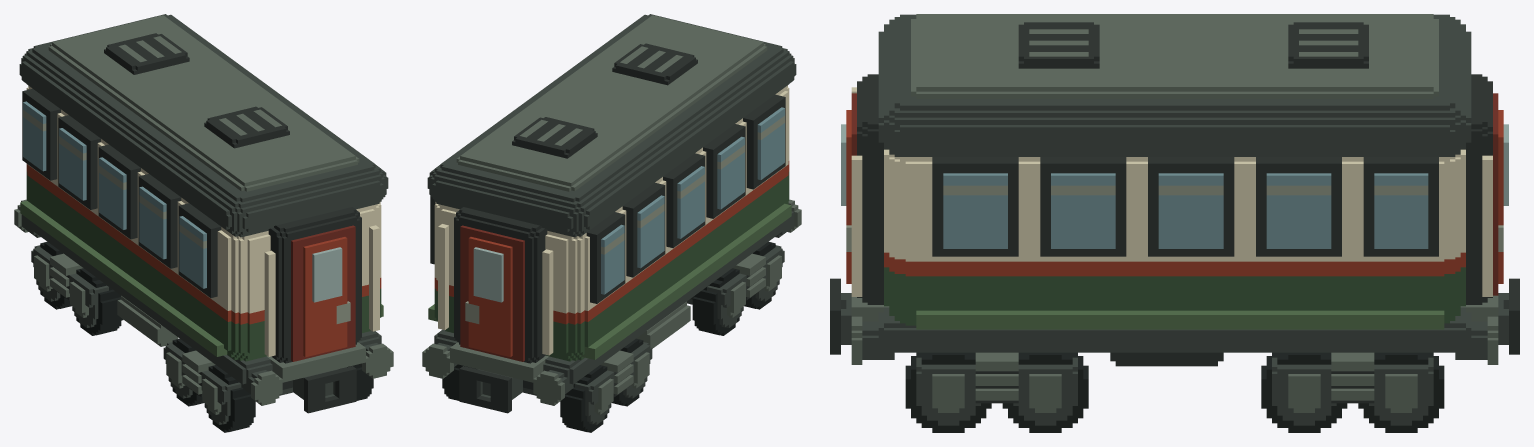
Rendered from passenger_car.glb.
The picture shows the model from 3 angles, left to right: view 1: azimuth 30°, elevation 25°; view 2: azimuth 150°, elevation 25°; view 3: azimuth 270°, elevation 25°; orthographic projection. The views are drawn at different scales.
Visible parts, largest first — view 1: passenger_car; view 2: passenger_car; view 3: passenger_car.
Boxes of the visible parts, box(x1,y1,x2,y2) form: passenger_car: box(14, 14, 393, 432); passenger_car: box(422, 14, 801, 432); passenger_car: box(830, 14, 1519, 432).
Bounding box in the file's own units: 3.25 × 4.61 × 8.32.
